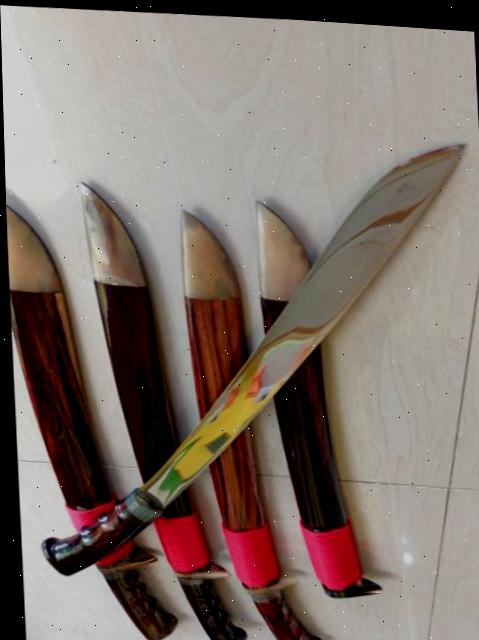long knife: (19, 112, 479, 597), (76, 178, 242, 640), (5, 196, 172, 640), (176, 200, 321, 640)
